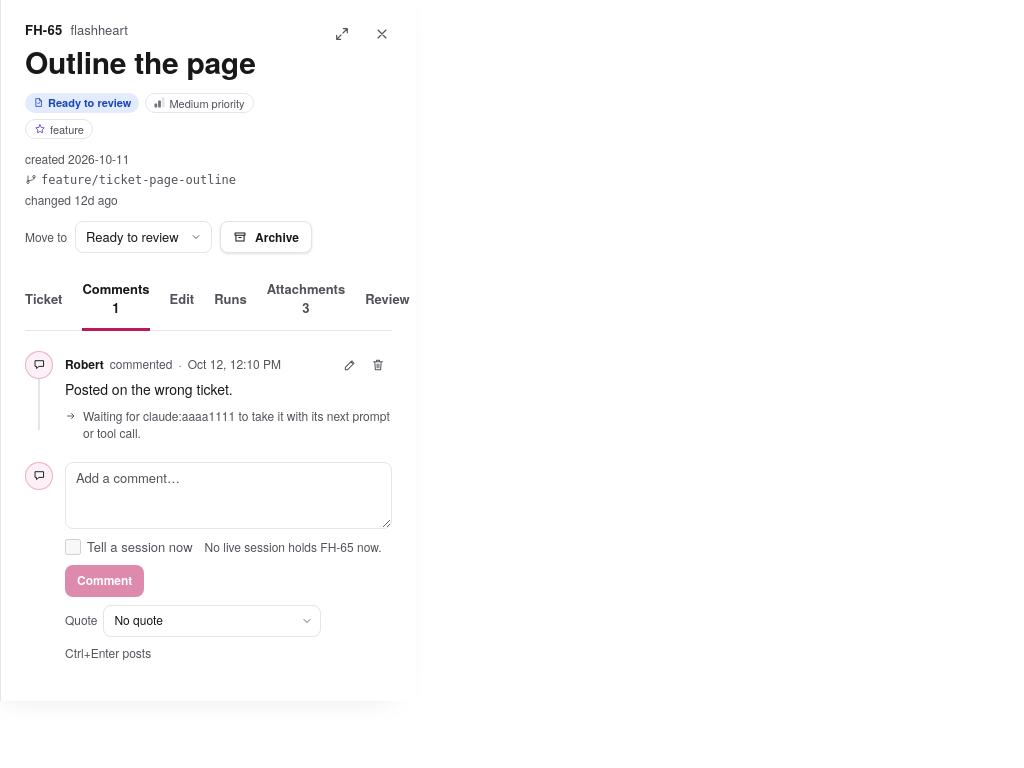
Test: deleting a comment on the card panel (FH-140) › asks first, then deletes on the activity's hash and says so
The image size is (1024, 768).
Click the button named "Delete comment": (378, 364) [364,350,392,378]
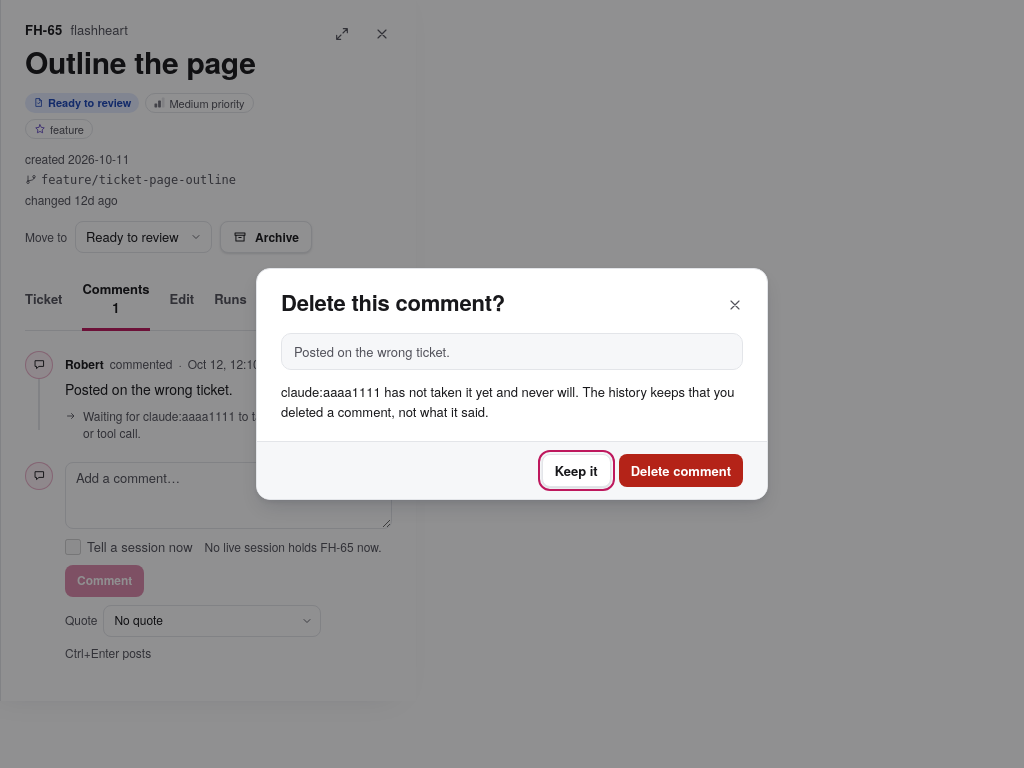
Check: the dialog "Delete this comment?" shows "Posted on the wrong ticket.", box [294,342,450,361]
Check: the dialog "Delete this comment?" shows "claude:aaaa1111 has not taken it yet and never will.", box [281,382,734,420]
Click the button "Delete comment": (681, 470) [619,454,743,487]
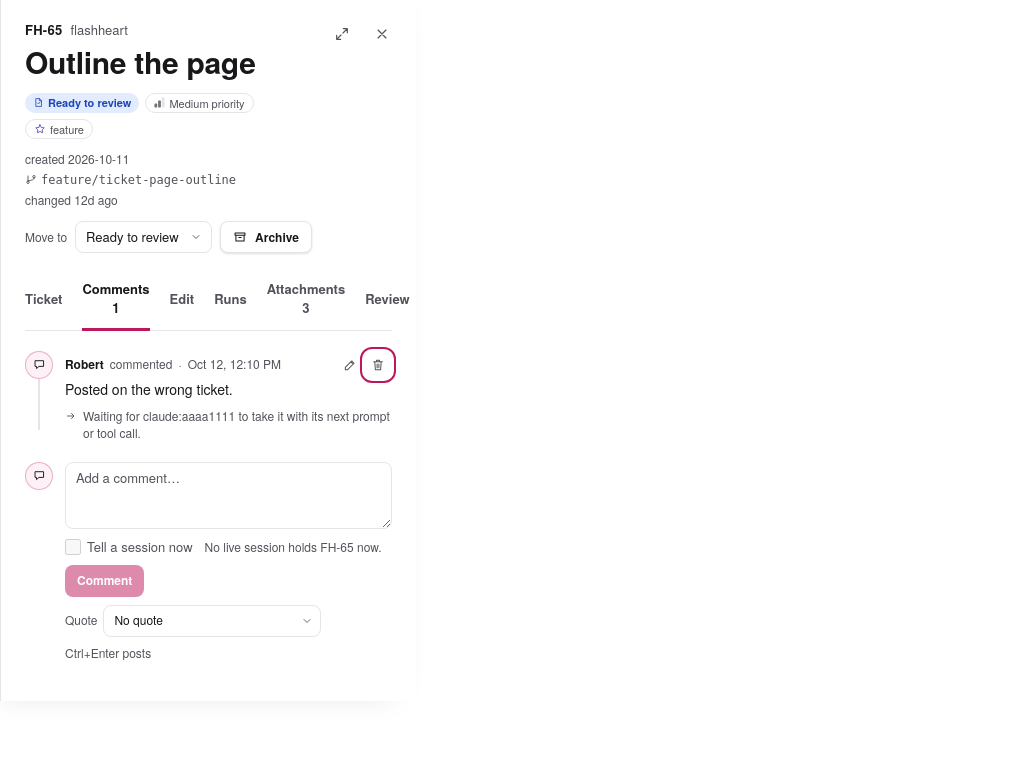
Check: the dialog is gone
